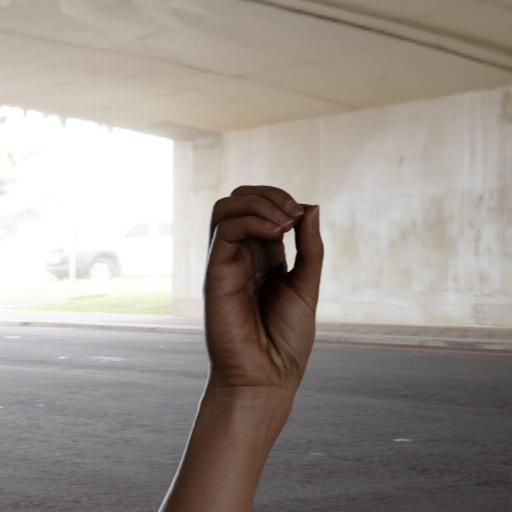O: (170, 167, 370, 405)
